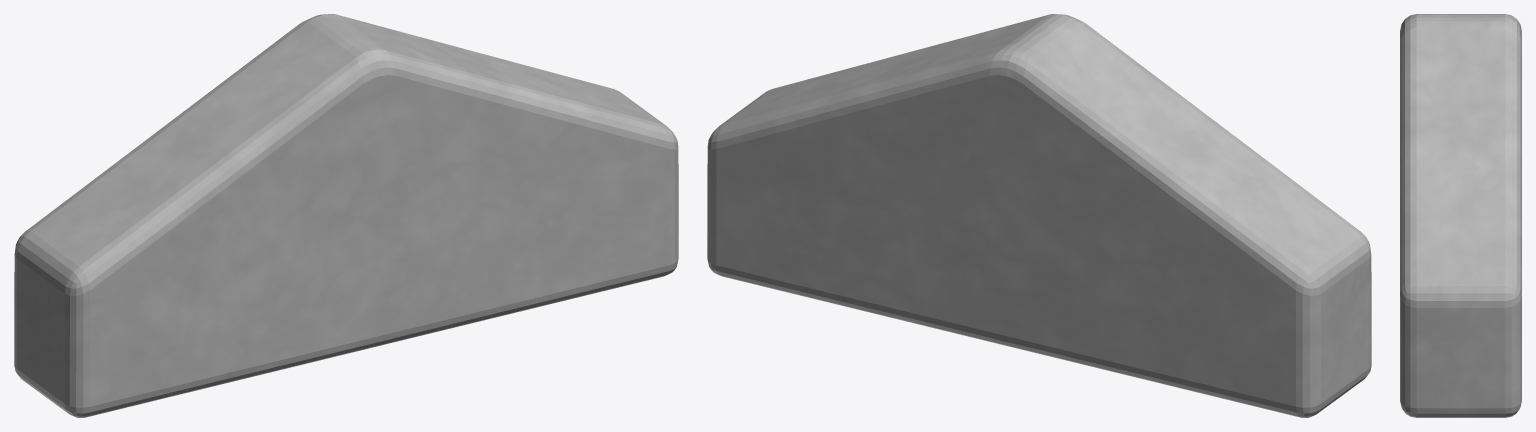
File: Portal parca 1.fbx
3 views of the same model, side by side, from view 1: azimuth 30°, elevation 25°; view 2: azimuth 150°, elevation 25°; view 3: azimuth 270°, elevation 25° (orthographic). The views are drawn at different scales.
Parts seen in each view (by area): view 1: Portal_parca_1; view 2: Portal_parca_1; view 3: Portal_parca_1.
Boxes of the visible parts, x1,y1,x2,y2 form: Portal_parca_1: (14,14,678,417); Portal_parca_1: (707,14,1371,417); Portal_parca_1: (1400,14,1521,417).
Size of the model in its own units: 155 by 71.42 by 29.23.
